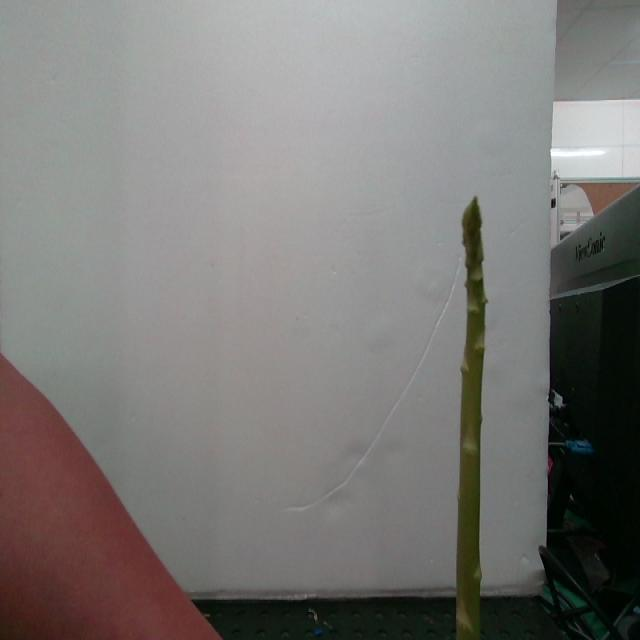aspargus: (454, 201, 486, 640)
